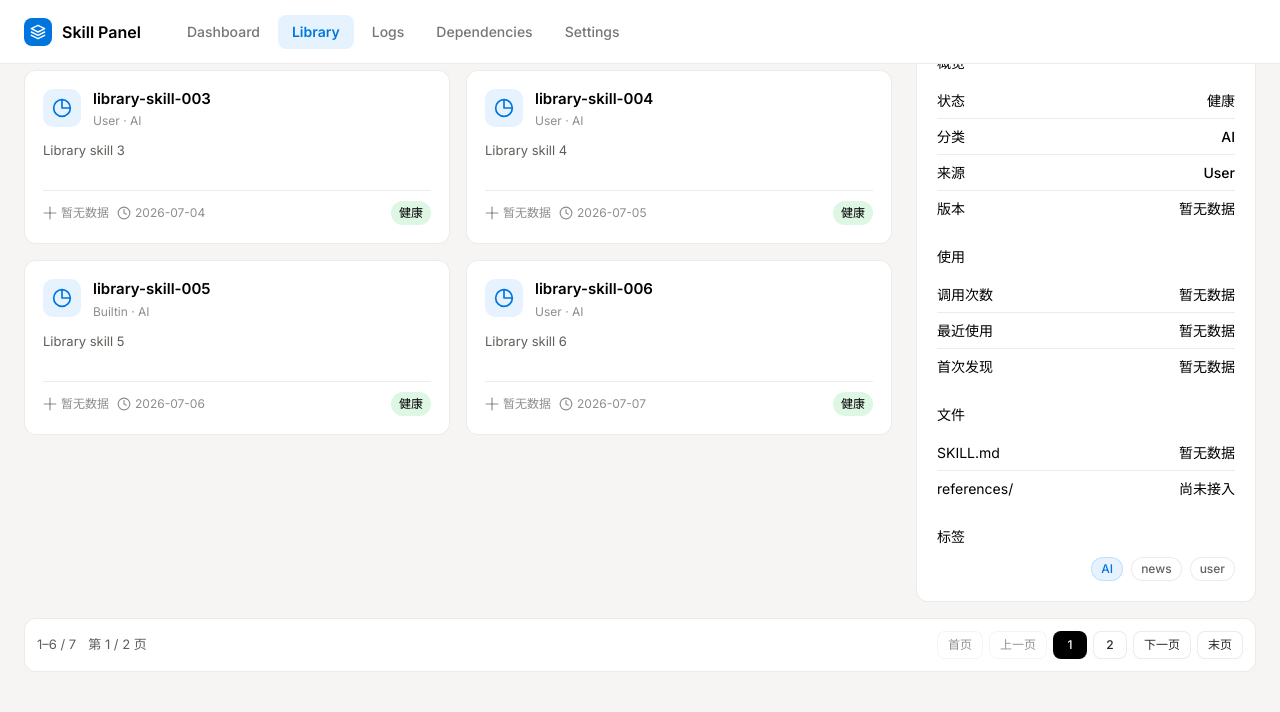
Test: AppShell Tauri event fallback › paginates 7 scanned skills into 2 pages with 6 skills on the first page
The image size is (1280, 712).
(page scrolled)
expect the text "1–6 / 7" is shown: met, box [37,635,76,655]
expect the text "第 1 / 2 页" is shown: met, box [88,635,147,655]
Click the button "下一页" at (1162, 645), box [1133,631,1191,659]
(page scrolled)
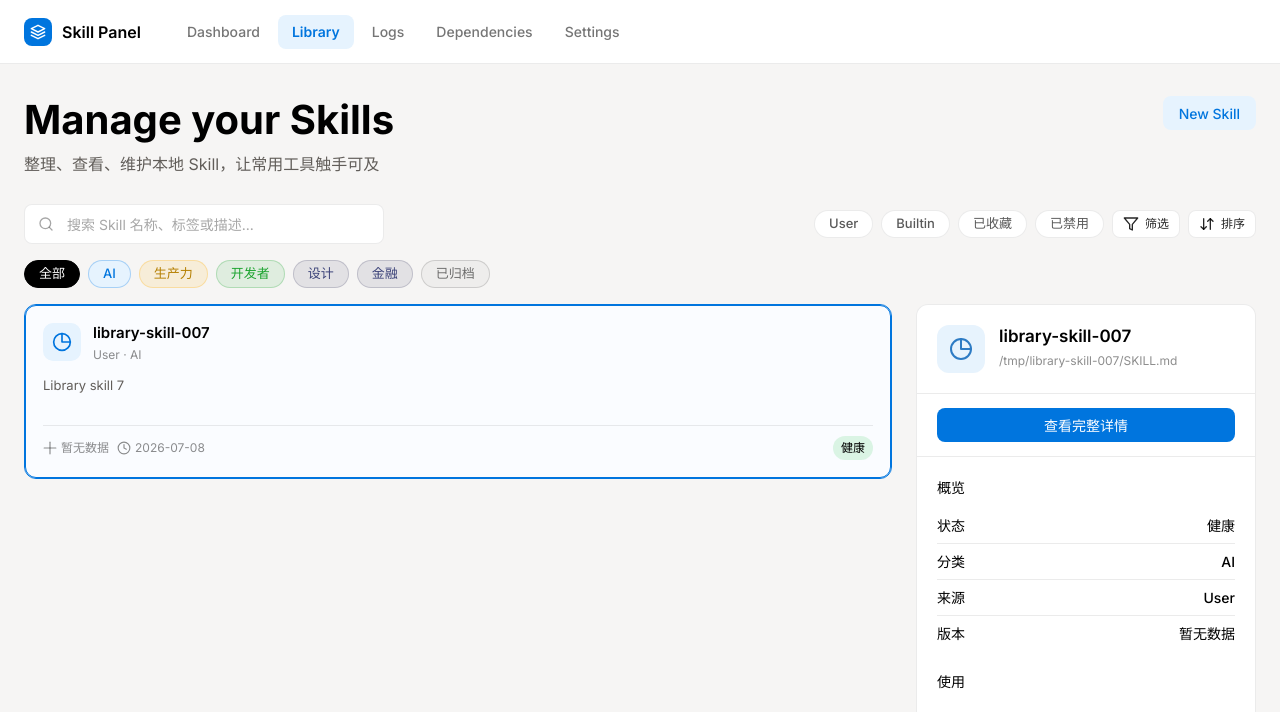
expect the text "library-skill-007" is shown: met, box [93,323,210,343]
